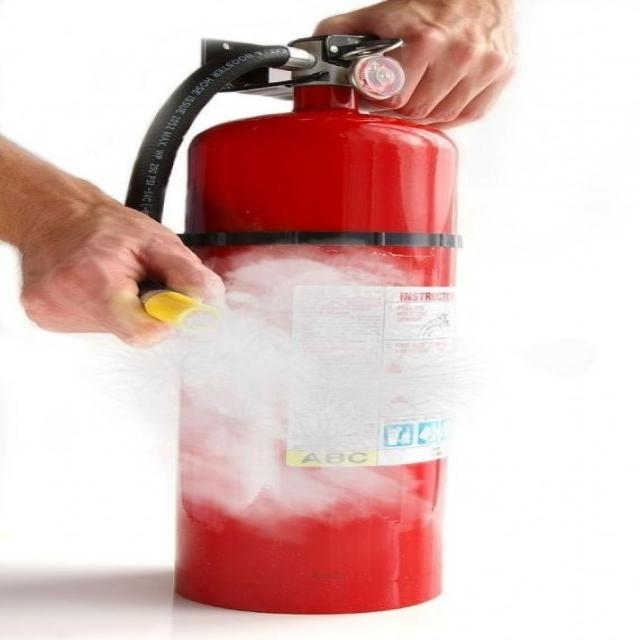fire_extinguisher: (106, 30, 470, 620)
